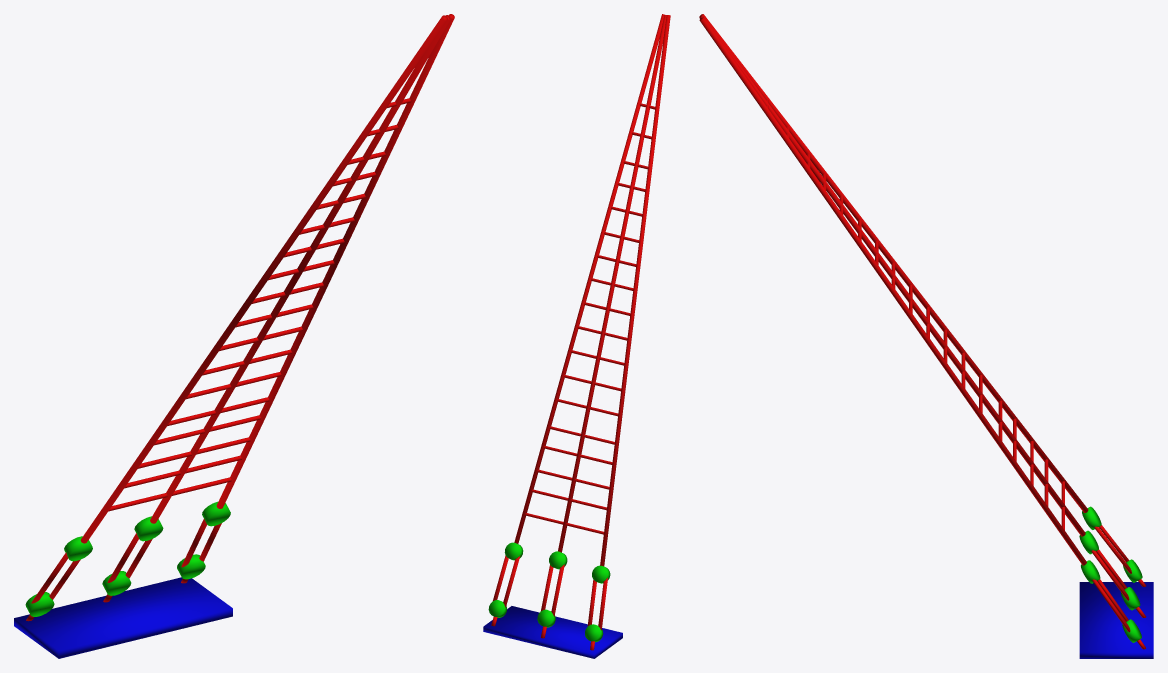
The model's file is 8rope3l 1.fbx.
3 renders of one model, left to right at view 1: azimuth 30°, elevation 25°; view 2: azimuth 150°, elevation 25°; view 3: azimuth 270°, elevation 25°, orthographic. The views are drawn at different scales.
Parts seen in each view (by area): view 1: 3l; view 2: 3l; view 3: 3l.
Boxes of the visible parts, x1,y1,x2,y2 form: 3l: (14,14,454,658); 3l: (483,14,670,658); 3l: (699,14,1153,658).
Bounding box in the file's own units: 227 × 952 × 615.
